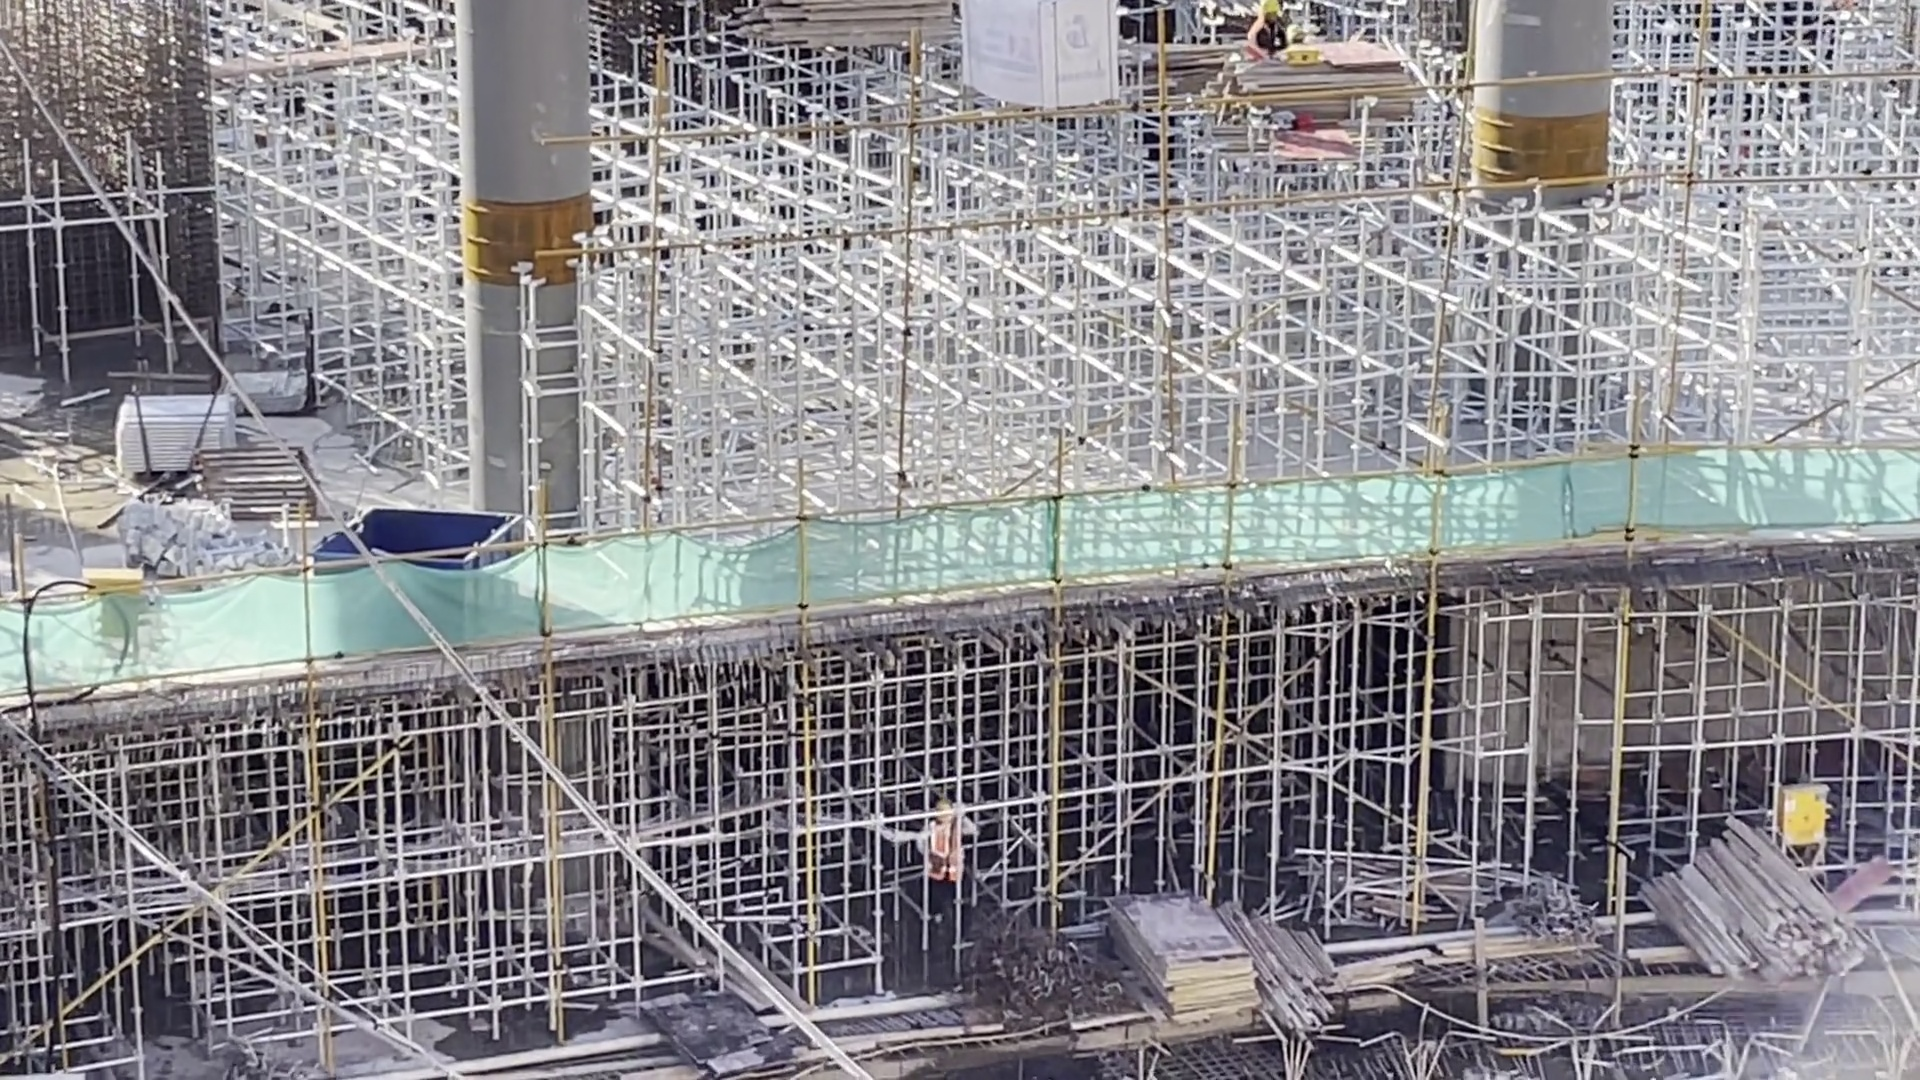board: (1102, 886, 1269, 1027), (1233, 42, 1428, 127)
ebox: (1768, 779, 1830, 849), (74, 563, 146, 589)
helmet: (1259, 3, 1284, 17)
hopper: (307, 505, 533, 545)
scaffold: (111, 390, 243, 456)
vest: (1246, 3, 1292, 57), (931, 822, 961, 884), (1247, 21, 1279, 61)
wood: (1629, 800, 1884, 978), (728, 4, 960, 53), (1265, 922, 1341, 1033)
